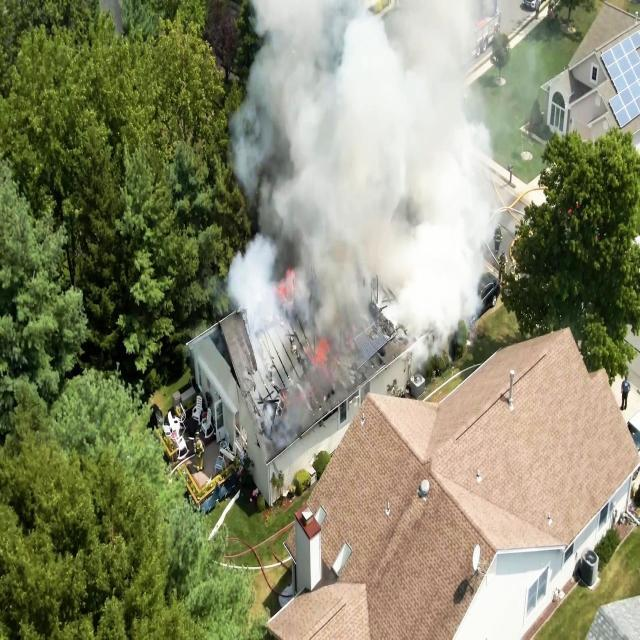Smoke: (234, 0, 528, 366)
